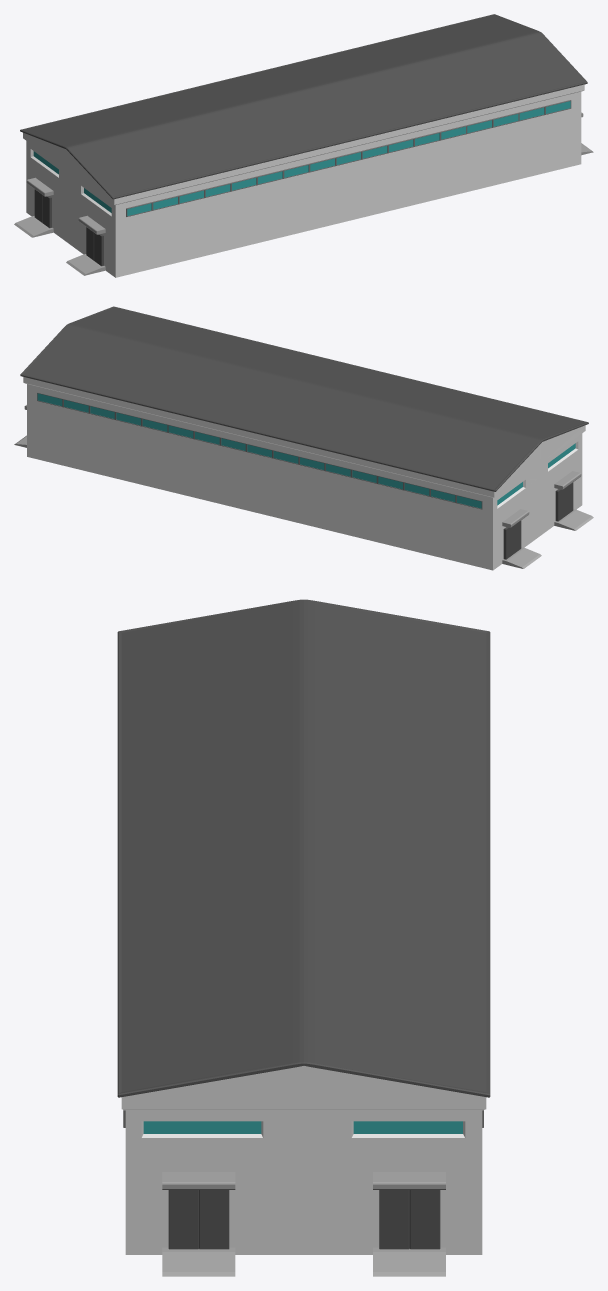
File: hsck2.fbx
3 renders of one model, top to bottom at view 1: azimuth 30°, elevation 25°; view 2: azimuth 150°, elevation 25°; view 3: azimuth 270°, elevation 25°, orthographic. The views are drawn at different scales.
Parts seen in each view (by area): view 1: pCube14; view 2: pCube14; view 3: pCube14.
Boxes of the visible parts, bbox=[...] form: pCube14: bbox=[14, 14, 593, 277]; pCube14: bbox=[14, 306, 593, 570]; pCube14: bbox=[117, 599, 490, 1276].
Size of the model in its own units: 28.37 by 5.25 by 9.
